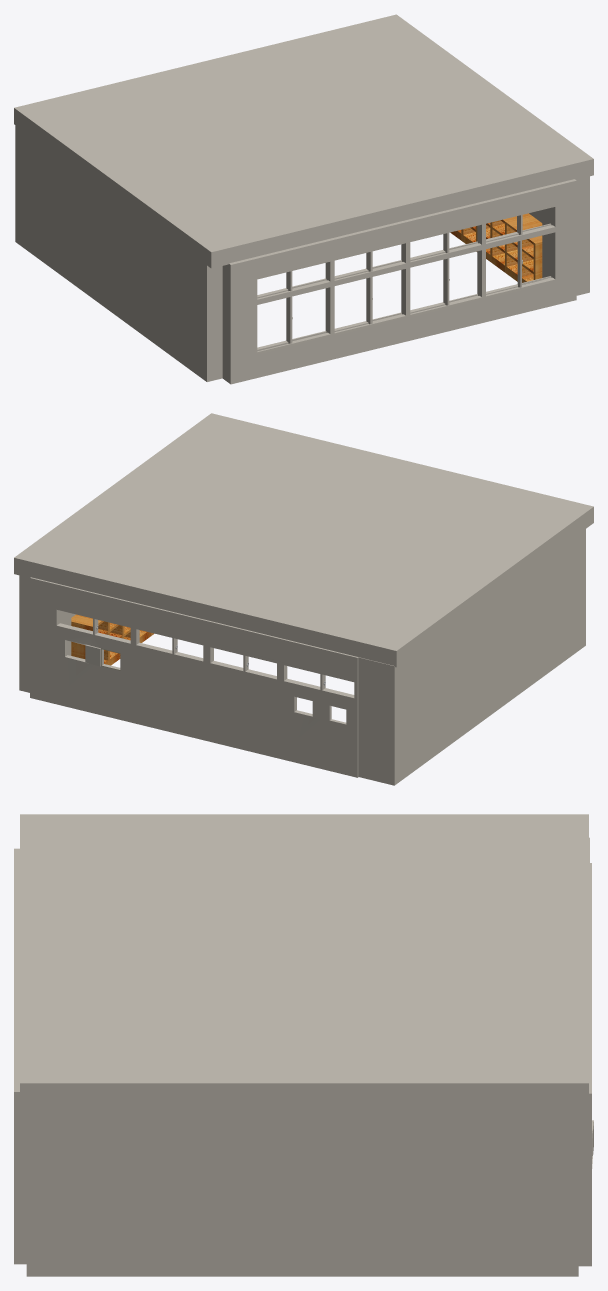
File: Wall.obj
3 renders of one model, top to bottom at view 1: azimuth 30°, elevation 25°; view 2: azimuth 150°, elevation 25°; view 3: azimuth 270°, elevation 25°, orthographic. The views are drawn at different scales.
Visible parts, largest first — view 1: wall_wall_initialShadingGroup, wall_wall_blinn1SG, wall_wall_lambert10SG; view 2: wall_wall_initialShadingGroup, wall_wall_blinn1SG, wall_wall_lambert10SG; view 3: wall_wall_initialShadingGroup.
Boxes of the visible parts, x1,y1,x2,y2 form: wall_wall_initialShadingGroup: (14, 14, 593, 384); wall_wall_blinn1SG: (252, 205, 555, 356); wall_wall_lambert10SG: (450, 213, 542, 282); wall_wall_initialShadingGroup: (14, 413, 593, 785); wall_wall_blinn1SG: (56, 610, 354, 725); wall_wall_lambert10SG: (71, 614, 153, 665); wall_wall_initialShadingGroup: (14, 814, 593, 1276).
Size of the model in its own units: 24.5 by 8.35 by 22.32.
